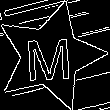M_N: (25, 29, 76, 83)
